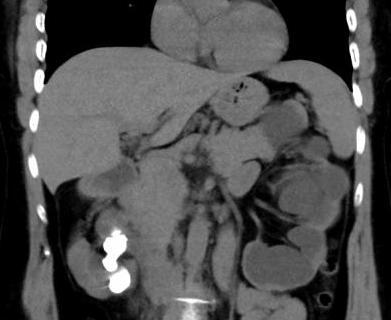Tas_Var: (98, 234, 129, 272), (106, 268, 136, 296), (111, 228, 122, 236)
